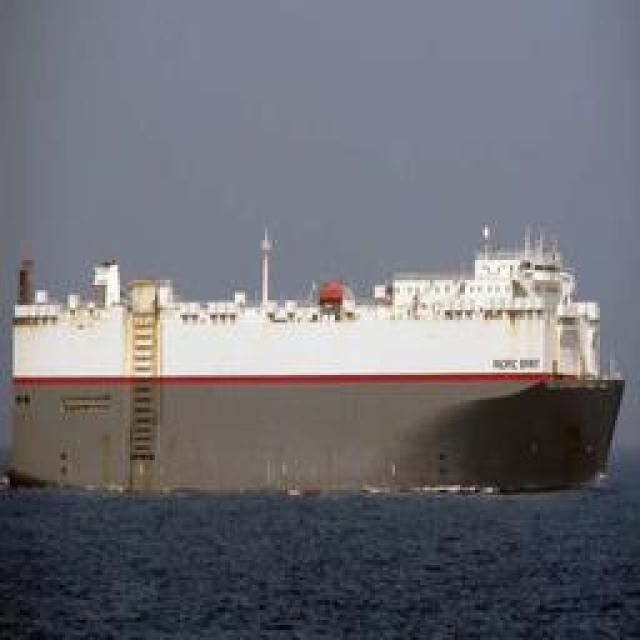ship: (5, 229, 623, 499)
